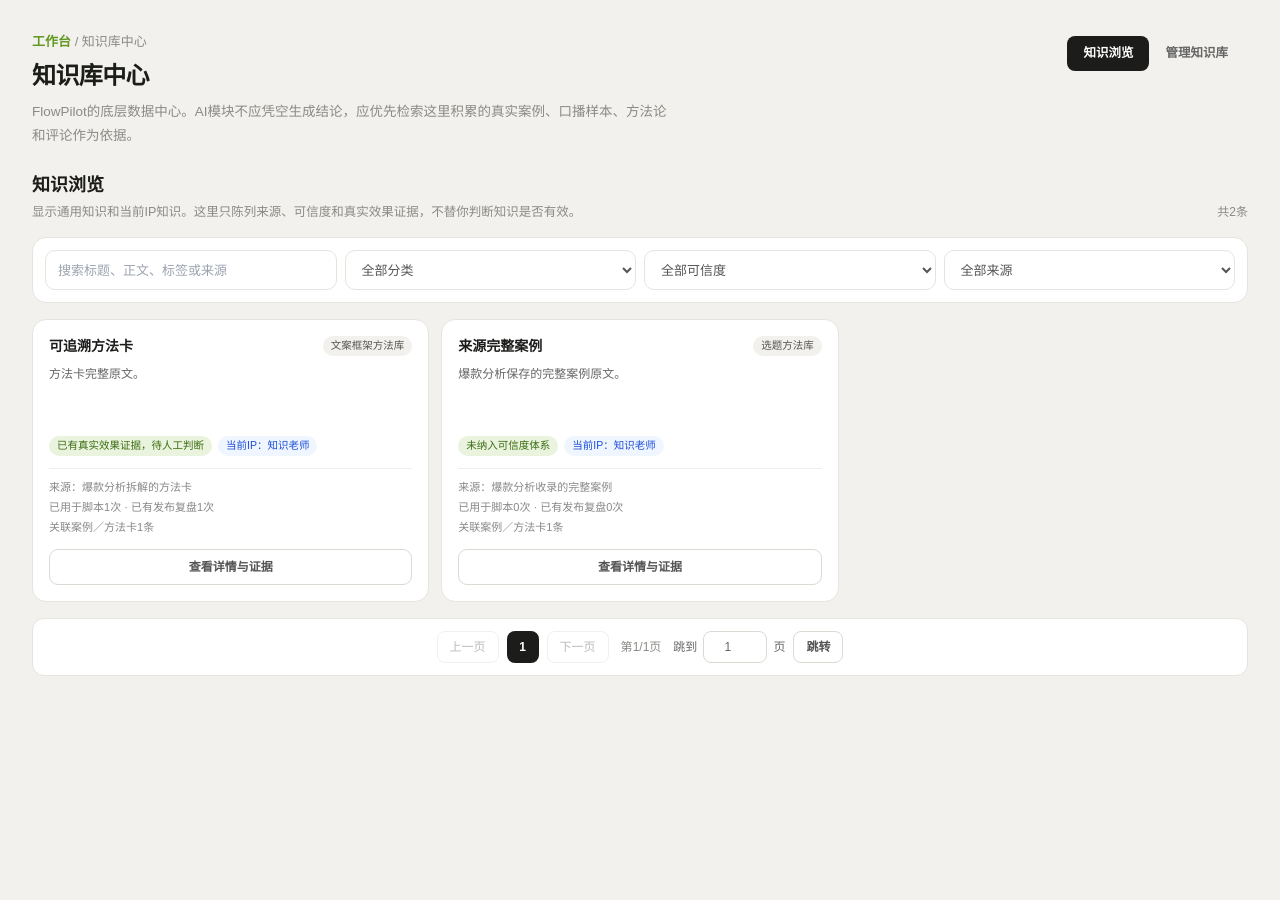
知识详情展示原始来源、真实证据和历史未验证记录但不替用户下结论
Click the button with aria-label "查看可追溯方法卡详情".
click(231, 567)  # box left=49, top=549, right=412, bottom=585
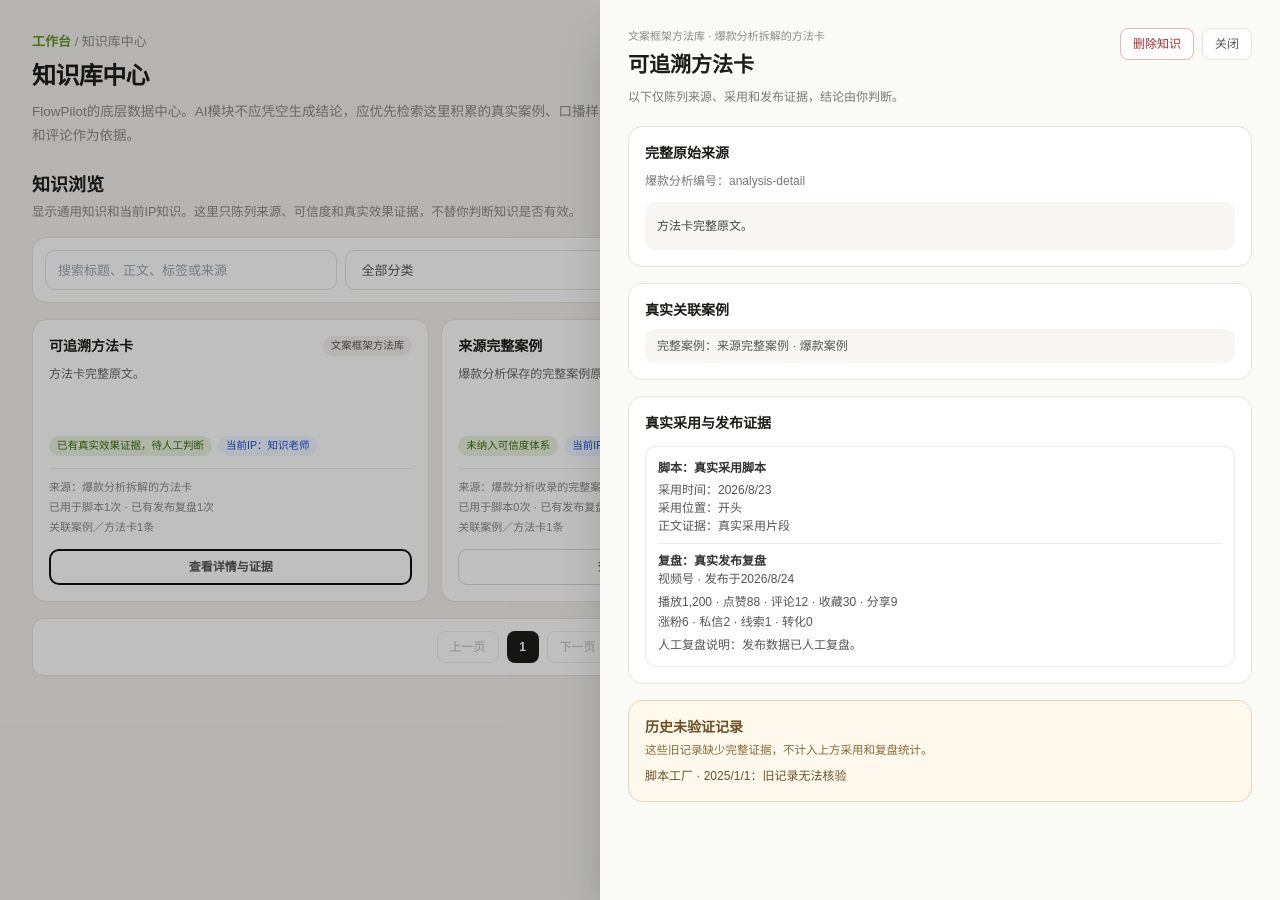
Expected: the dialog named "知识详情：可追溯方法卡" shows "方法卡完整原文", left=657, top=217, right=753, bottom=234
Expected: the dialog named "知识详情：可追溯方法卡" shows "来源完整案例", left=717, top=339, right=789, bottom=353
Expected: the dialog named "知识详情：可追溯方法卡" shows "真实采用脚本", left=694, top=461, right=766, bottom=475
